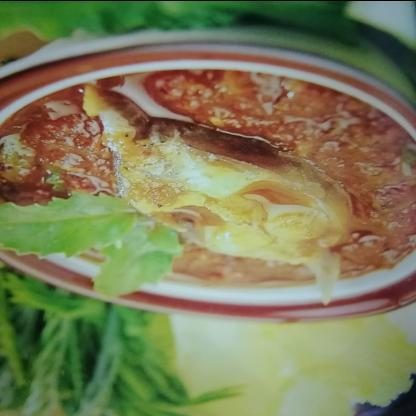Namprig: (12, 66, 415, 363)
